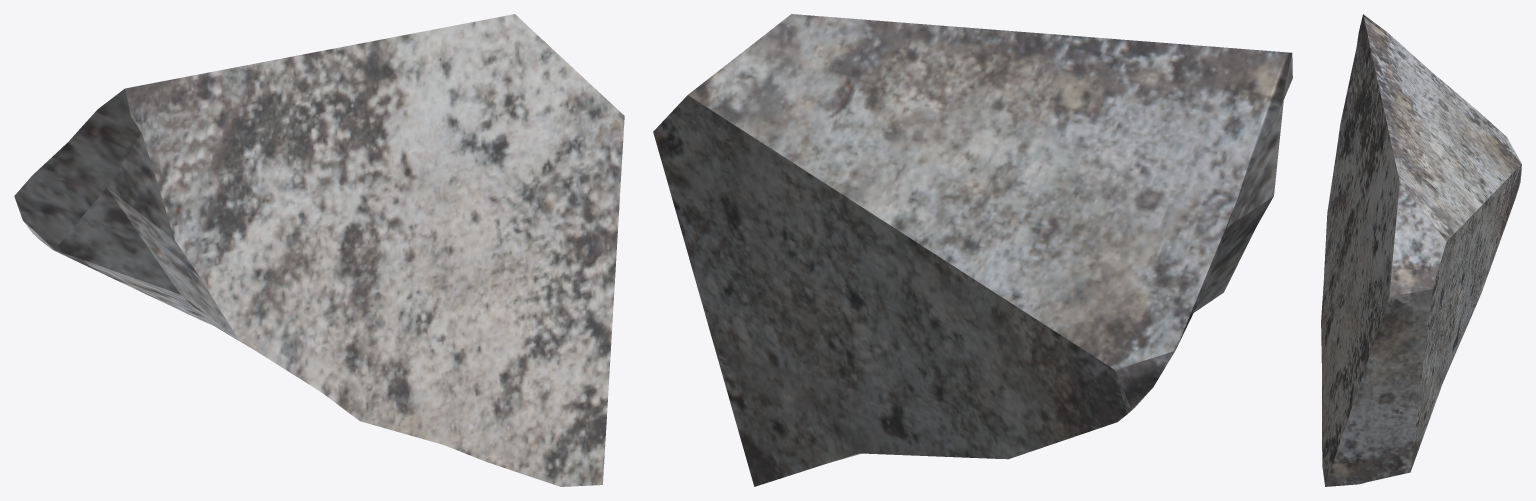
Rendered from Asteroid_Large_001_02_012_03_017.fbx.
The picture shows the model from 3 angles, left to right: view 1: azimuth 30°, elevation 25°; view 2: azimuth 150°, elevation 25°; view 3: azimuth 270°, elevation 25°; orthographic projection. The views are drawn at different scales.
Visible parts, largest first — view 1: Asteroid_Large_001_02_012_03_017; view 2: Asteroid_Large_001_02_012_03_017; view 3: Asteroid_Large_001_02_012_03_017.
Boxes of the visible parts, left/top/right/bottom form: Asteroid_Large_001_02_012_03_017: left=14, top=14, right=624, bottom=486; Asteroid_Large_001_02_012_03_017: left=653, top=14, right=1292, bottom=486; Asteroid_Large_001_02_012_03_017: left=1321, top=14, right=1521, bottom=486.
Bounding box in the file's own units: 11.45 × 10.06 × 5.63.
